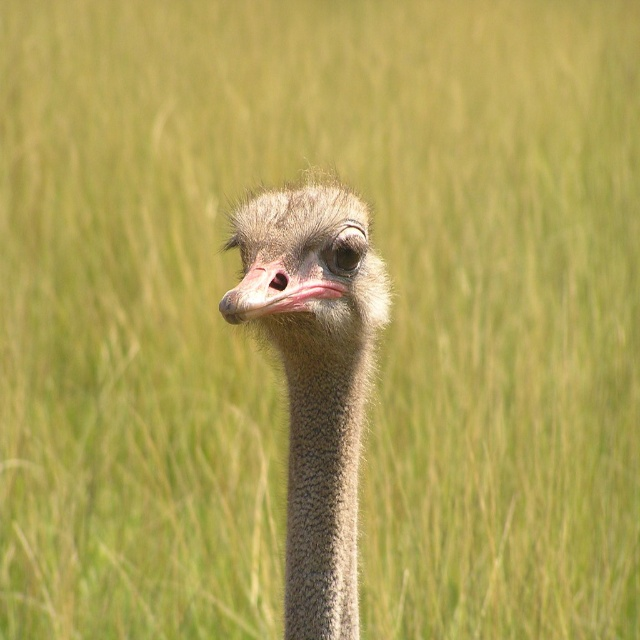Ostrich: (218, 180, 401, 639)
